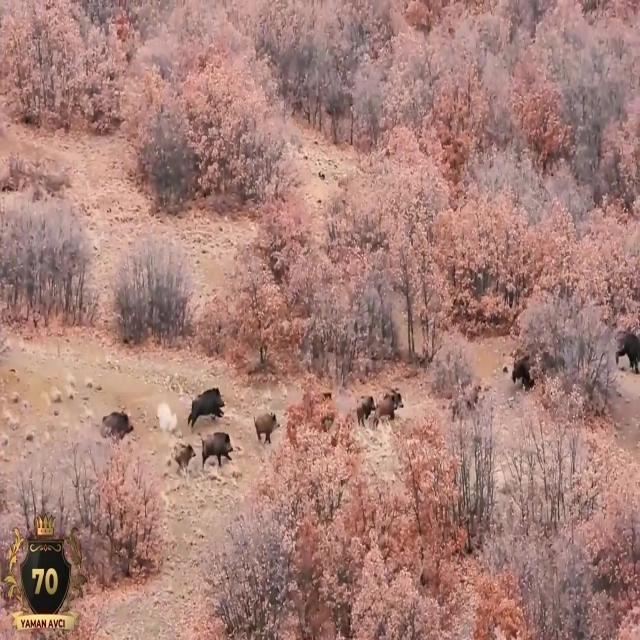pig: (245, 399, 282, 459), (182, 379, 230, 424), (104, 398, 134, 448), (202, 427, 235, 467), (374, 390, 402, 430)
